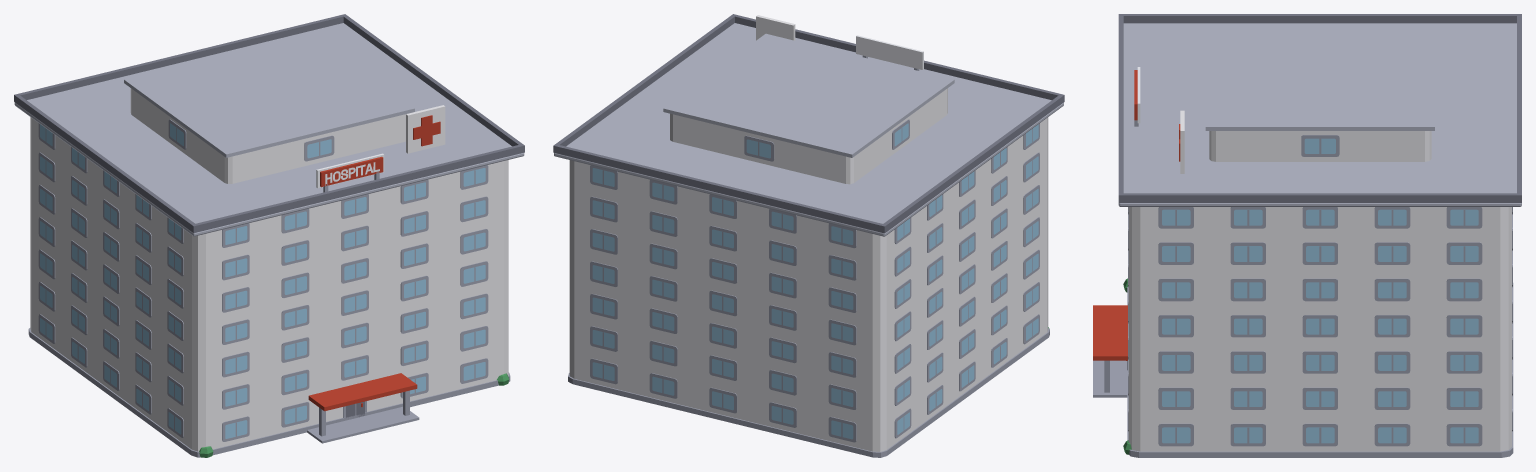
Rendered from hospital-3x3-7f.glb.
3 views of the same model, side by side, from view 1: azimuth 30°, elevation 25°; view 2: azimuth 150°, elevation 25°; view 3: azimuth 270°, elevation 25° (orthographic). The views are drawn at different scales.
Parts seen in each view (by area): view 1: hospital-3x3-7f; view 2: hospital-3x3-7f; view 3: hospital-3x3-7f.
Boxes of the visible parts, <box> form: hospital-3x3-7f: <box>14,14,524,457</box>; hospital-3x3-7f: <box>553,14,1064,457</box>; hospital-3x3-7f: <box>1093,14,1521,457</box>.
Size of the model in its own units: 3 by 2.33 by 3.
1 material, 1 textured.
